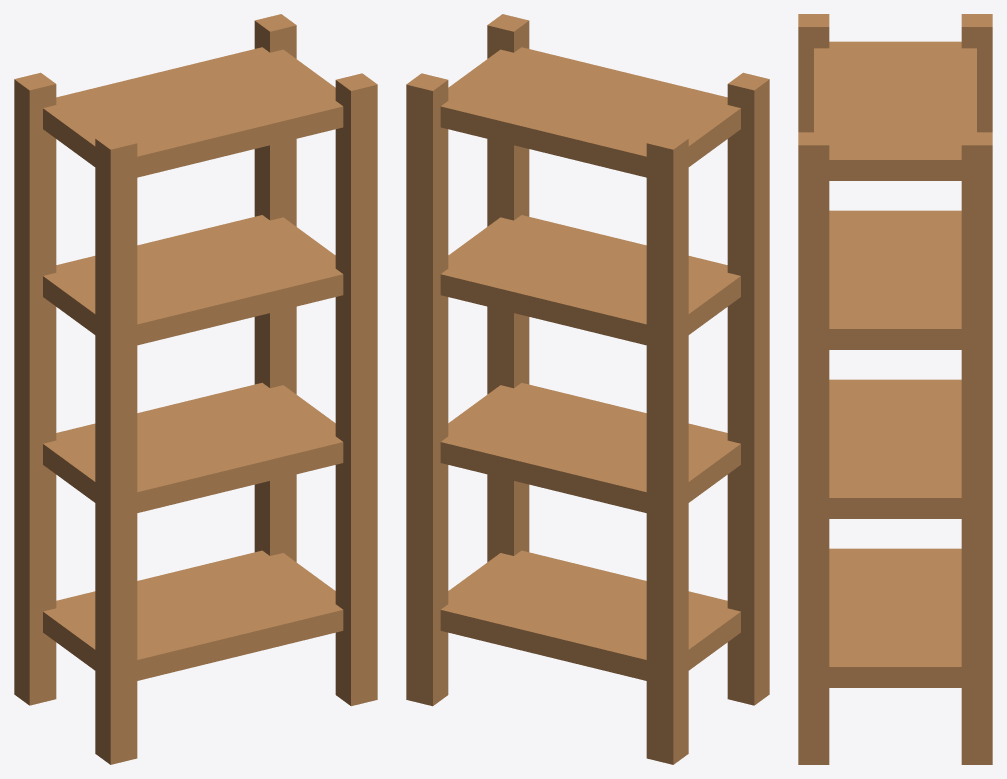
File: kitBookcaseOpen.glb
The picture shows the model from 3 angles, left to right: view 1: azimuth 30°, elevation 25°; view 2: azimuth 150°, elevation 25°; view 3: azimuth 270°, elevation 25°; orthographic projection.
Visible parts, largest first — view 1: kitBookcaseOpen_wood; view 2: kitBookcaseOpen_wood; view 3: kitBookcaseOpen_wood.
Boxes of the visible parts, x1,y1,x2,y2 form: kitBookcaseOpen_wood: (14, 14, 377, 764); kitBookcaseOpen_wood: (406, 14, 769, 764); kitBookcaseOpen_wood: (798, 14, 992, 764).
Size of the model in its own units: 0.8 by 1.76 by 0.5.
